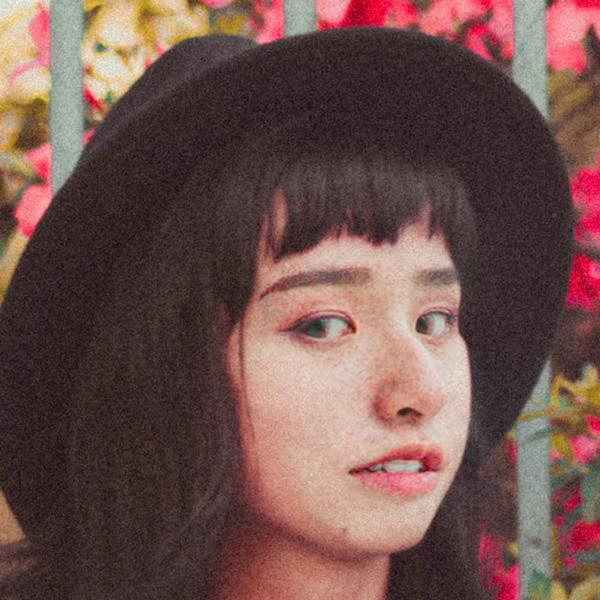Eyes: (275, 299, 371, 360), (406, 301, 461, 351)
